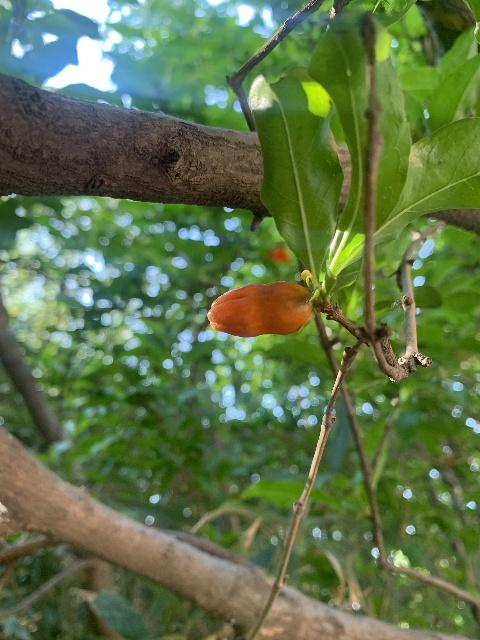bud: (206, 279, 313, 337)
